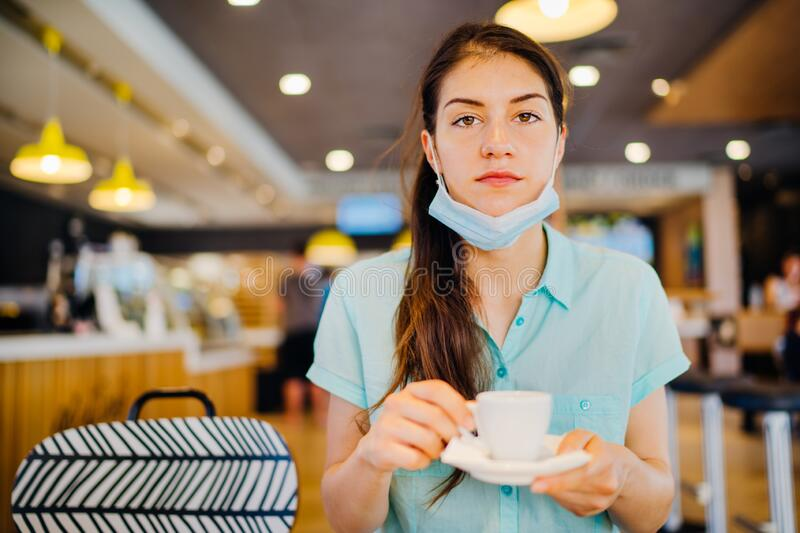mask_weared_incorrect: (437, 95, 561, 243)
